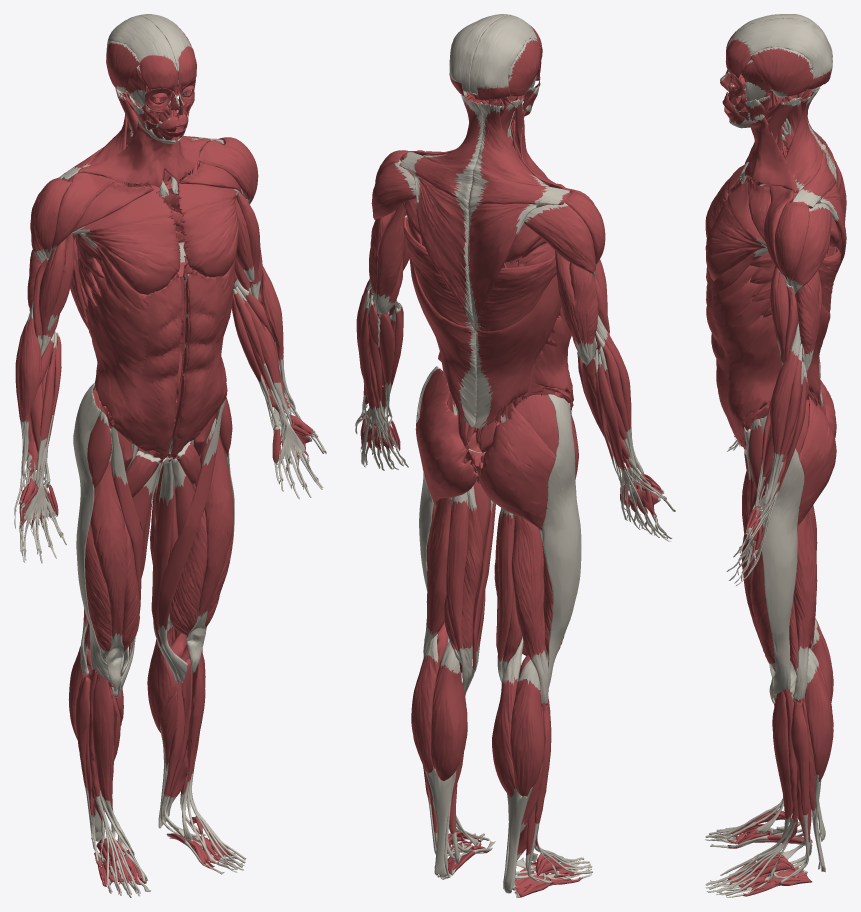
Rendered from anatomy-muscles.glb.
3 views of the same model, side by side, from view 1: azimuth 30°, elevation 25°; view 2: azimuth 150°, elevation 25°; view 3: azimuth 270°, elevation 25° (orthographic). The views are drawn at different scales.
Parts seen in each view (by area): view 1: External_abdominal_oblique_muscler, Sternocostal_head_of_pectoralis_major_muscler, External_abdominal_oblique_musclel, Sternocostal_head_of_pectoralis_major_musclel, Rectus_femoris_muscler, Rectus_femoris_musclel, Sartorius_musclel, Iliotibial_tractr, Platysmar, Vastus_medialis_musclel, Gracilis_musclel, Tibialis_anterior_muscler (+47 smaller); view 2: Latissimus_dorsi_muscler, Iliotibial_tractr, Latissimus_dorsi_musclel, Gluteus_maximus_muscler, Descending_part_of_trapezius_musclel, Long_head_of_biceps_femorisr, Descending_part_of_trapezius_muscler, Gluteus_maximus_musclel, Medial_head_of_gastrocnemiusl, Lateral_head_of_gastrocnemiusr, Epicranial_aponeurosisr, Scapular_spinal_part_of_deltoid_muscler (+35 smaller); view 3: External_abdominal_oblique_musclel, Iliotibial_tractl, Sternocostal_head_of_pectoralis_major_musclel, Epicranial_aponeurosisl, Long_head_of_biceps_femorisl, Gluteus_maximus_musclel, Temporoparietalis_musclel, Lateral_head_of_gastrocnemiusl, Platysmal, Brachioradialis_musclel, Acromial_part_of_deltoid_musclel, Scapular_spinal_part_of_deltoid_musclel (+41 smaller).
Boxes of the visible parts, bbox=[...] form: External_abdominal_oblique_muscler: bbox=[86, 260, 182, 451]; Sternocostal_head_of_pectoralis_major_muscler: bbox=[69, 190, 180, 294]; External_abdominal_oblique_musclel: bbox=[176, 266, 234, 447]; Sternocostal_head_of_pectoralis_major_musclel: bbox=[178, 183, 239, 277]; Rectus_femoris_muscler: bbox=[90, 439, 127, 691]; Rectus_femoris_musclel: bbox=[186, 418, 233, 672]; Sartorius_musclel: bbox=[158, 399, 225, 682]; Iliotibial_tractr: bbox=[73, 382, 110, 681]; Platysmar: bbox=[78, 118, 176, 187]; Vastus_medialis_musclel: bbox=[169, 509, 207, 657]; Gracilis_musclel: bbox=[151, 459, 179, 683]; Tibialis_anterior_muscler: bbox=[92, 674, 134, 855]; Latissimus_dorsi_muscler: bbox=[475, 254, 561, 428]; Iliotibial_tractr: bbox=[542, 394, 581, 687]; Latissimus_dorsi_musclel: bbox=[403, 215, 476, 426]; Gluteus_maximus_muscler: bbox=[478, 406, 555, 530]; Descending_part_of_trapezius_musclel: bbox=[414, 174, 475, 330]; Long_head_of_biceps_femorisr: bbox=[511, 514, 549, 703]; Descending_part_of_trapezius_muscler: bbox=[468, 203, 544, 330]; Gluteus_maximus_musclel: bbox=[416, 391, 478, 505]; Medial_head_of_gastrocnemiusl: bbox=[430, 640, 467, 780]; Lateral_head_of_gastrocnemiusr: bbox=[510, 659, 544, 796]; Epicranial_aponeurosisr: bbox=[469, 15, 537, 94]; Scapular_spinal_part_of_deltoid_muscler: bbox=[524, 202, 595, 277]; External_abdominal_oblique_musclel: bbox=[706, 265, 782, 445]; Iliotibial_tractl: bbox=[759, 415, 804, 695]; Sternocostal_head_of_pectoralis_major_musclel: bbox=[705, 181, 766, 279]; Epicranial_aponeurosisl: bbox=[729, 18, 832, 78]; Long_head_of_biceps_femorisl: bbox=[793, 511, 817, 700]; Gluteus_maximus_musclel: bbox=[797, 396, 836, 526]; Temporoparietalis_musclel: bbox=[750, 46, 813, 97]; Lateral_head_of_gastrocnemiusl: bbox=[805, 654, 833, 781]; Platysmal: bbox=[729, 114, 797, 192]; Brachioradialis_musclel: bbox=[763, 321, 800, 506]; Acromial_part_of_deltoid_musclel: bbox=[774, 202, 809, 285]; Scapular_spinal_part_of_deltoid_musclel: bbox=[791, 203, 831, 294].
Size of the model in its own units: 0.66 by 1.7 by 0.2585.
